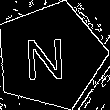N_N: (28, 30, 73, 82)
